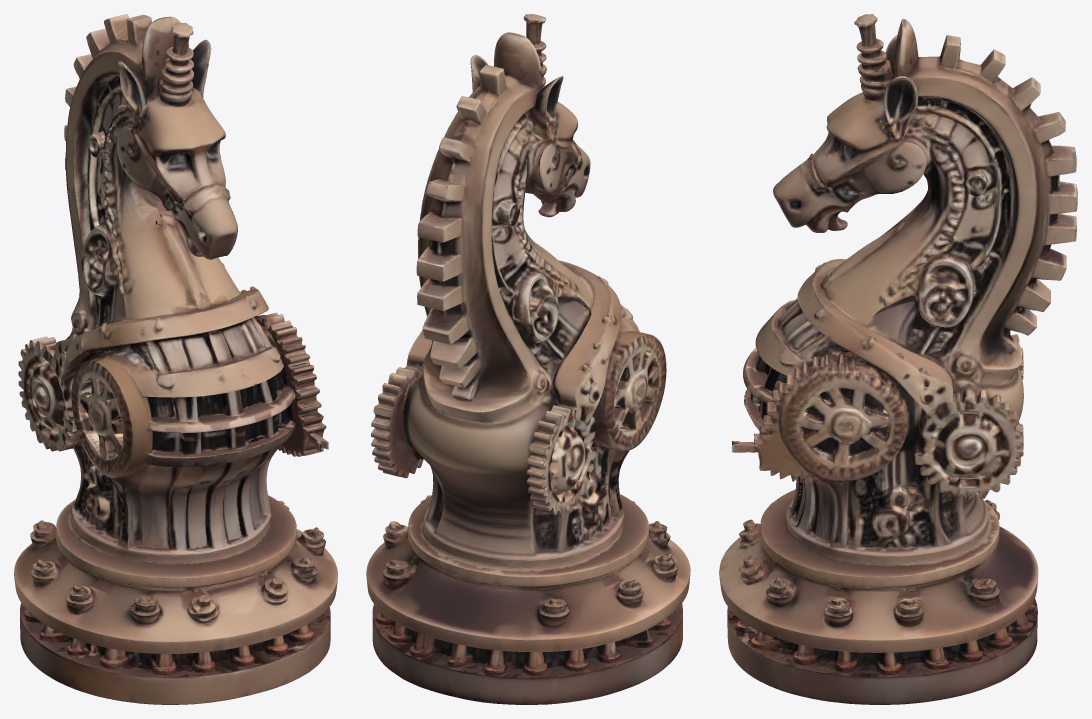
Rendered from knight2.glb.
The picture shows the model from 3 angles, left to right: view 1: azimuth 30°, elevation 25°; view 2: azimuth 150°, elevation 25°; view 3: azimuth 270°, elevation 25°; orthographic projection.
Parts seen in each view (by area): view 1: model; view 2: model; view 3: model.
Boxes of the visible parts, x1,y1,x2,y2 form: model: (14,14,337,704); model: (366,14,690,704); model: (719,14,1077,704).
Size of the model in its own units: 0.8904 by 1.9 by 0.9901.
Materials: 1 (1 with a texture image).
